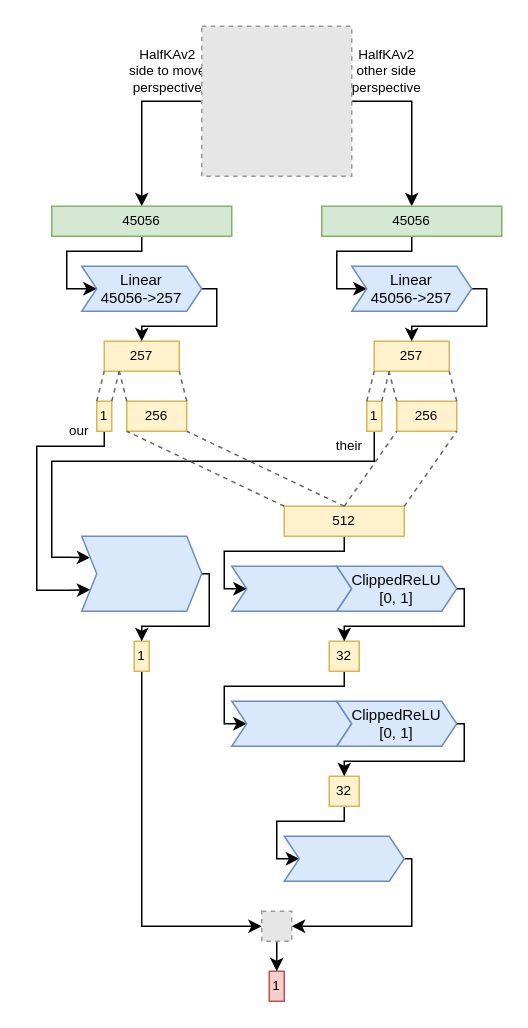
The diagram is 528 pixels wide and 1028 high, and some of its shapes have lost their labels. Grey dashed boxes stand in for pictures. Each missing label, with the centre of its shape:
"Average perspectives (our - their) / 2" belongs at pixel 141 573.
"Linear 32->1" belongs at pixel 343 858.
"Linear 32->32" belongs at pixel 291 723.
"Linear 512->32" belongs at pixel 291 588.
